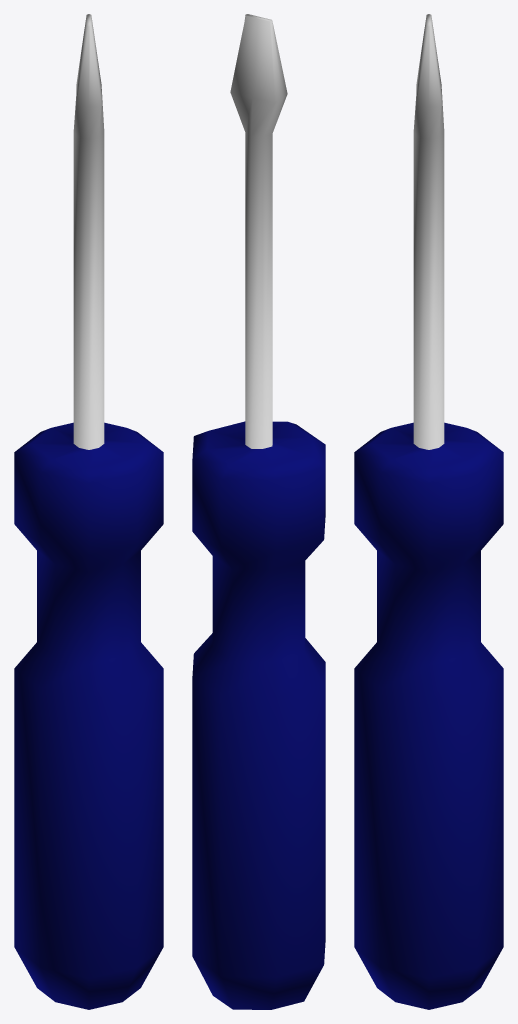
The model's file is Flathead2.obj.
3 views of the same model, side by side, from view 1: azimuth 90°, elevation 25°; view 2: azimuth 150°, elevation 25°; view 3: azimuth 270°, elevation 25° (orthographic).
Visible parts, largest first — view 1: polySurface3 polySurface2 toolsFBXASC046screwdrivers; view 2: polySurface3 polySurface2 toolsFBXASC046screwdrivers; view 3: polySurface3 polySurface2 toolsFBXASC046screwdrivers.
Part boxes in pixels (bbox=[...]): polySurface3 polySurface2 toolsFBXASC046screwdrivers: bbox=[14, 14, 163, 1009]; polySurface3 polySurface2 toolsFBXASC046screwdrivers: bbox=[192, 14, 325, 1009]; polySurface3 polySurface2 toolsFBXASC046screwdrivers: bbox=[354, 14, 503, 1009].
Size of the model in its own units: 7.83 by 55.89 by 7.83.
